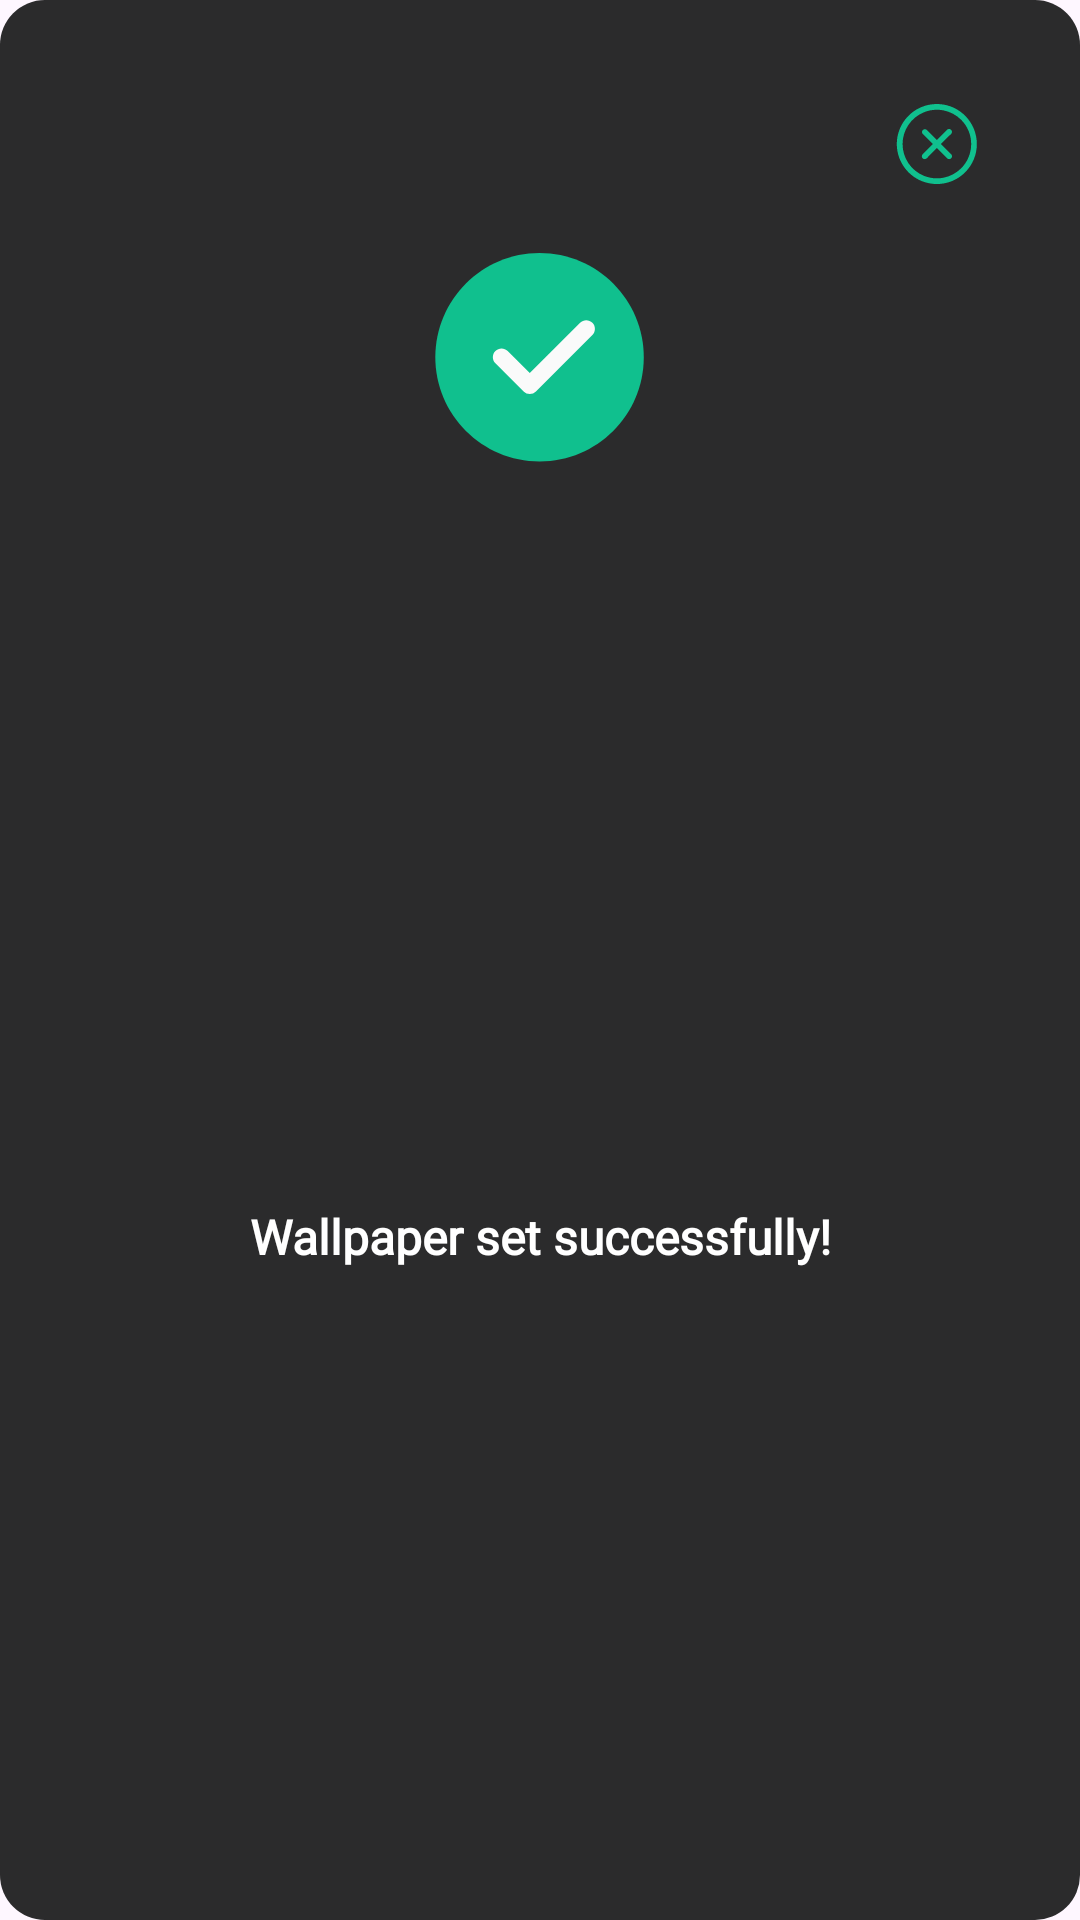

Icon bounding boxes for this 1080px×1920px phone screenshot, format (x1, y1, x2, y2):
Close: (896, 104, 977, 184)
Success Icon: (435, 253, 644, 462)
